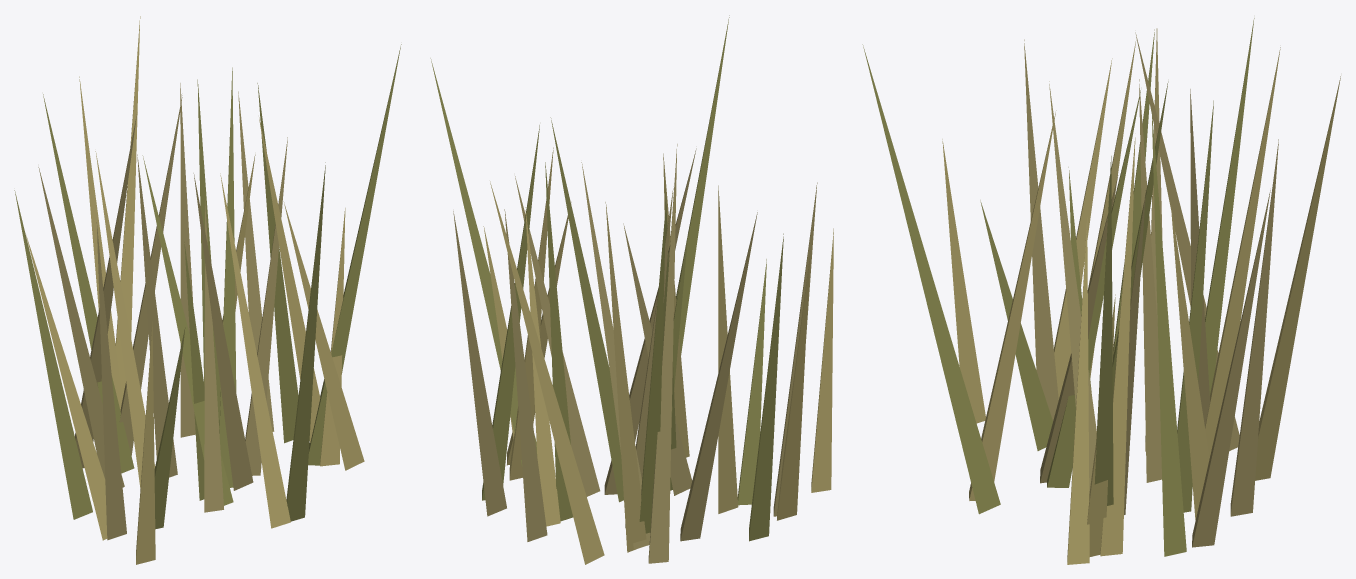
The model's file is cover_reed_short.glb.
3 renders of one model, left to right at view 1: azimuth 30°, elevation 25°; view 2: azimuth 150°, elevation 25°; view 3: azimuth 270°, elevation 25°, orthographic. The views are drawn at different scales.
Visible parts, largest first — view 1: cover_reed_short; view 2: cover_reed_short; view 3: cover_reed_short.
Boxes of the visible parts, bbox=[...] form: cover_reed_short: bbox=[14, 16, 401, 564]; cover_reed_short: bbox=[430, 15, 833, 564]; cover_reed_short: bbox=[862, 18, 1340, 564].
Size of the model in its own units: 1.31 by 1.35 by 1.28.
